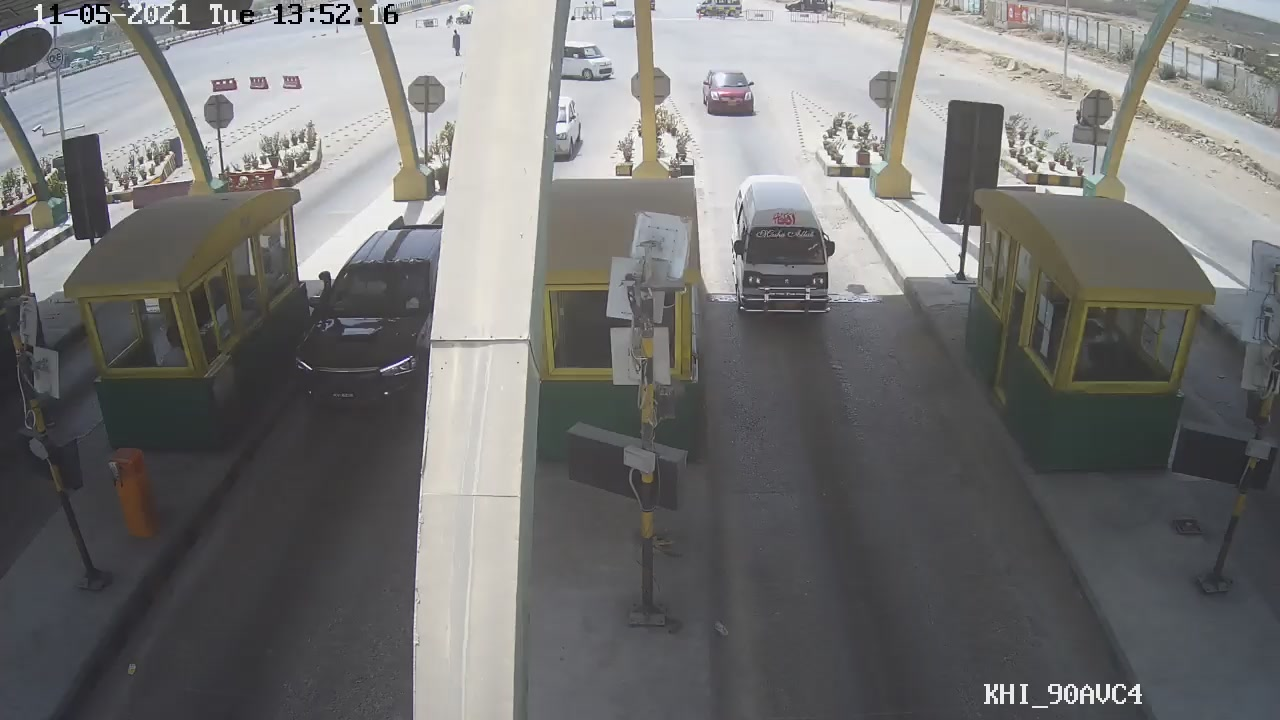F1: (722, 170, 865, 326)
